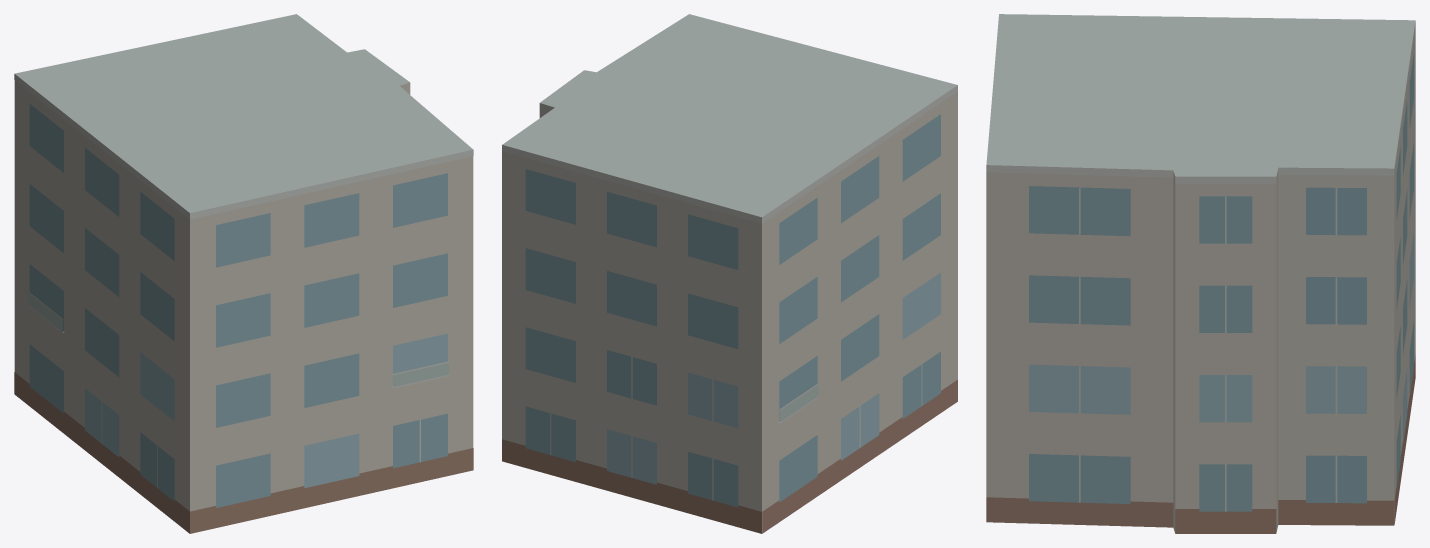
Rendered from survey-upis-32820388.glb.
3 views of the same model, side by side, from view 1: azimuth 30°, elevation 25°; view 2: azimuth 150°, elevation 25°; view 3: azimuth 270°, elevation 25° (orthographic). The views are drawn at different scales.
Visible parts, largest first — view 1: survey-upis-32820388.tmp; view 2: survey-upis-32820388.tmp; view 3: survey-upis-32820388.tmp.
Part boxes in pixels (x1,y1,x2,y2): survey-upis-32820388.tmp: [14, 14, 473, 533]; survey-upis-32820388.tmp: [502, 14, 957, 533]; survey-upis-32820388.tmp: [986, 14, 1415, 533].
Size of the model in its own units: 11.98 by 12.25 by 13.35.
